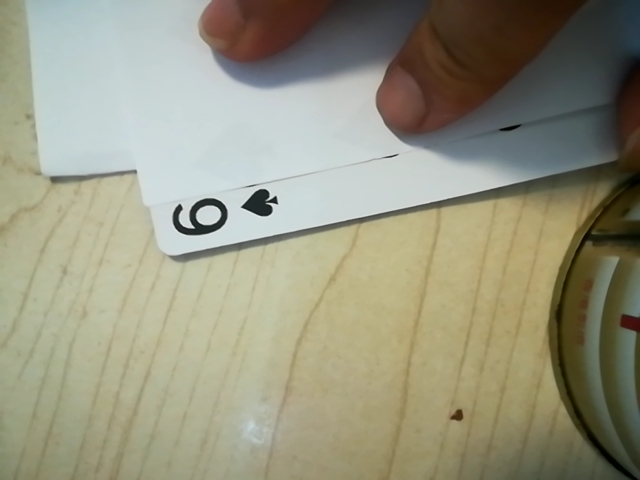ht 6: (158, 177, 282, 251)
